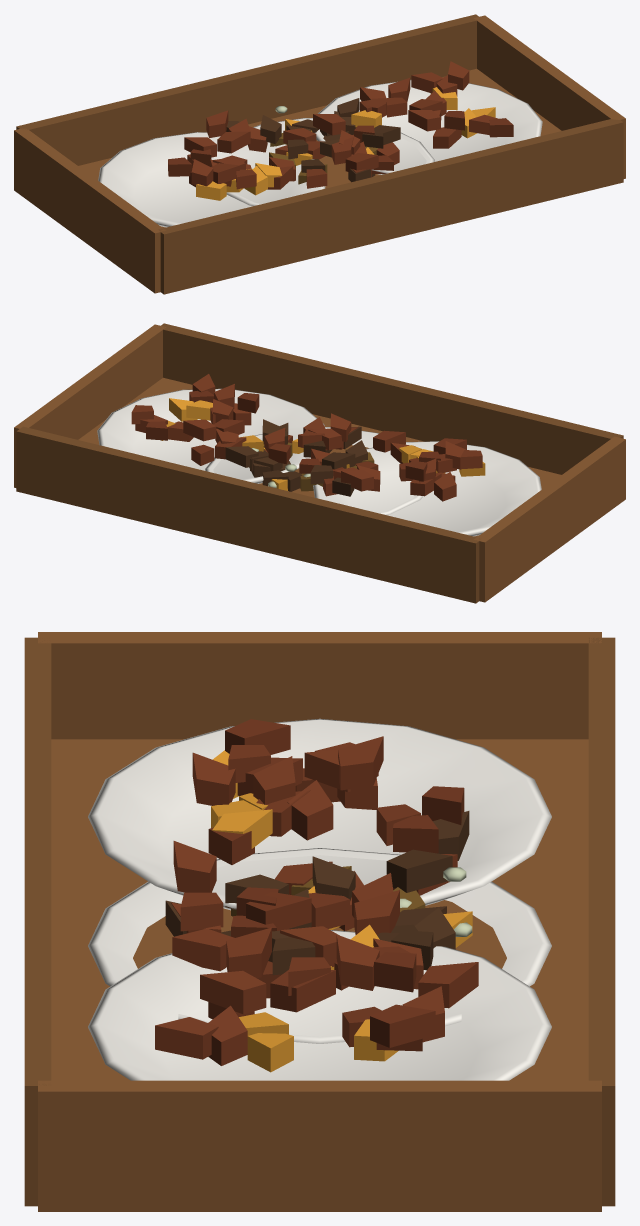
File: Meat_StirFry.fbx
3 views of the same model, one above another, from view 1: azimuth 30°, elevation 25°; view 2: azimuth 150°, elevation 25°; view 3: azimuth 270°, elevation 25° (orthographic). The views are drawn at different scales.
Parts seen in each view (by area): view 1: Meat_StirFry__Stack, Meat_StirFry, Meat_StirFry__Rotten; view 2: Meat_StirFry__Stack, Meat_StirFry__Rotten, Meat_StirFry; view 3: Meat_StirFry__Stack, Meat_StirFry, Meat_StirFry__Rotten.
Part boxes in pixels (x1,y1,x2,y2): Meat_StirFry__Stack: (14,14,625,294); Meat_StirFry: (211,114,434,206); Meat_StirFry__Rotten: (226,98,400,184); Meat_StirFry__Stack: (14,323,625,603); Meat_StirFry__Rotten: (225,419,374,496); Meat_StirFry: (205,413,423,515); Meat_StirFry__Stack: (24,632,615,1211); Meat_StirFry: (88,841,551,1043); Meat_StirFry__Rotten: (165,811,472,975).
Size of the model in its own units: 0.328 by 0.043 by 0.178.
